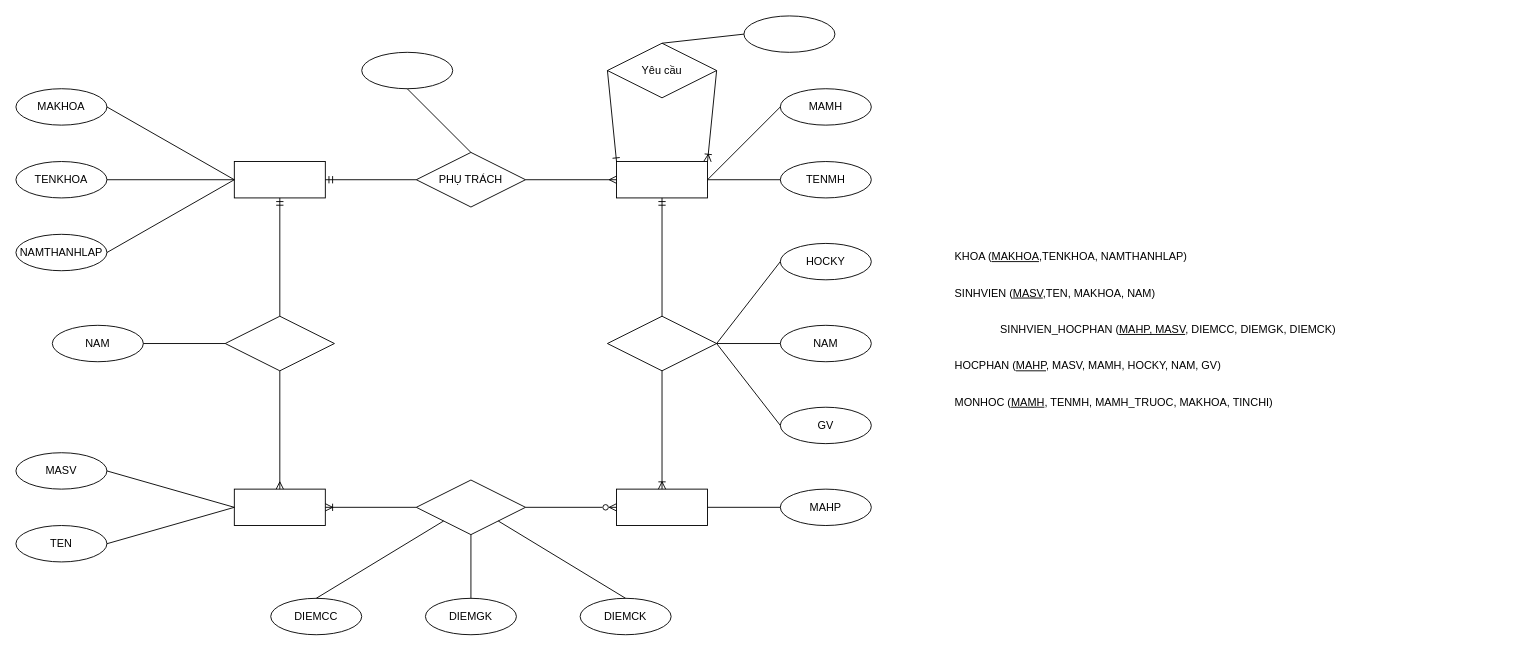
Image size: 1533x651. Some labels were removed from this diagram. The shapes that lost their labels are listed below. From the top down, each one's centre as x and y in pixels, then its label:
At (x=789, y=33): "MAMH_TRUOC".
At (x=407, y=70): "TINCHI".
At (x=279, y=179): "KHOA".
At (x=662, y=179): "MONHOC".
At (x=279, y=343): "ĐĂNG KÝ HỌC".
At (x=662, y=343): "MỞ MÔN HỌC".
At (x=279, y=507): "SINHVIEN".
At (x=470, y=507): "THEO HỌC".
At (x=662, y=507): "HOCPHAN".
